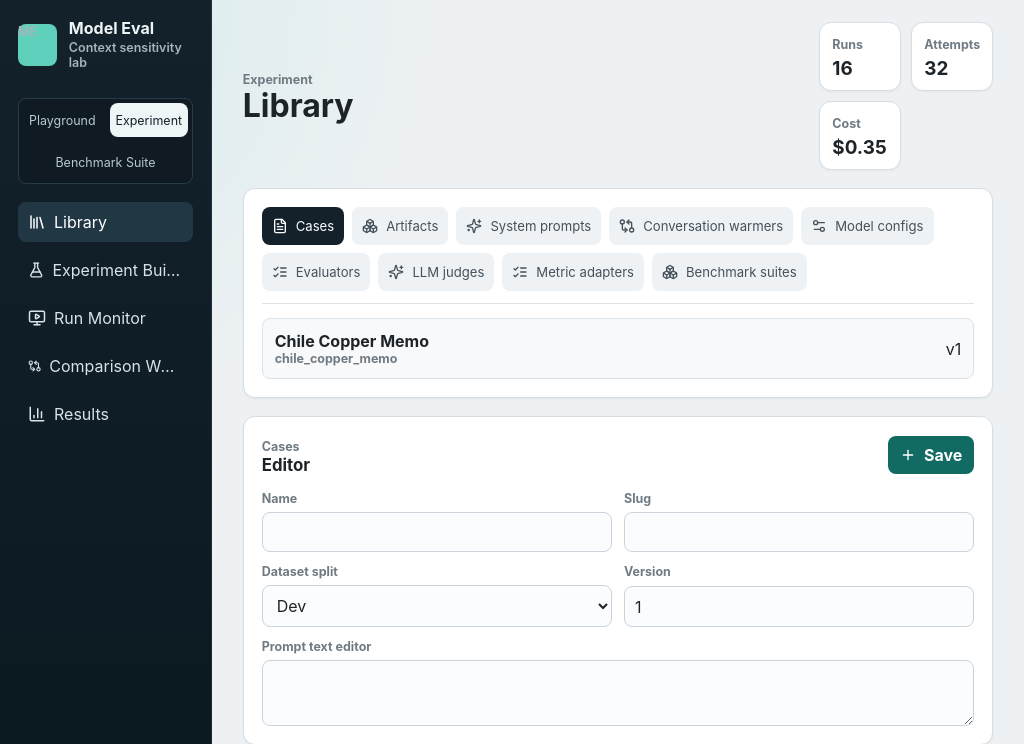
Test: App experiment builder › surfaces manifest-save library conflicts before creating a draft
Click the button "Experiment Builder". click: [106, 270]
box: top-left (18, 250), bottom-right (193, 290)
(page scrolled)
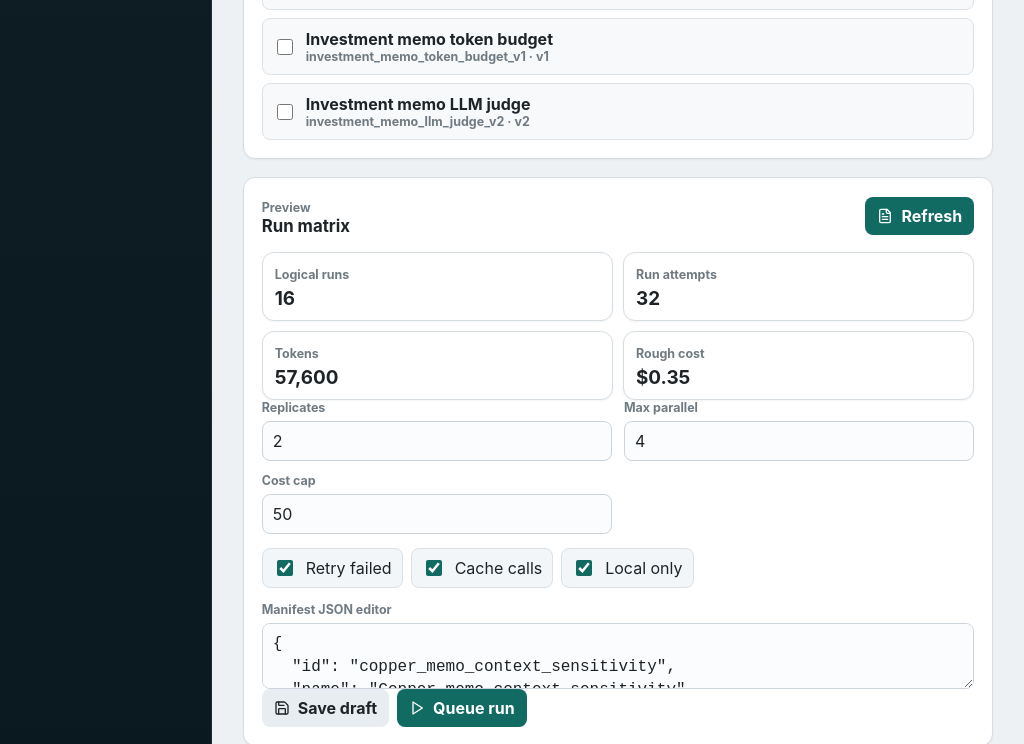
Click the button "Save draft". click: [325, 708]
box: top-left (262, 689), bottom-right (389, 727)
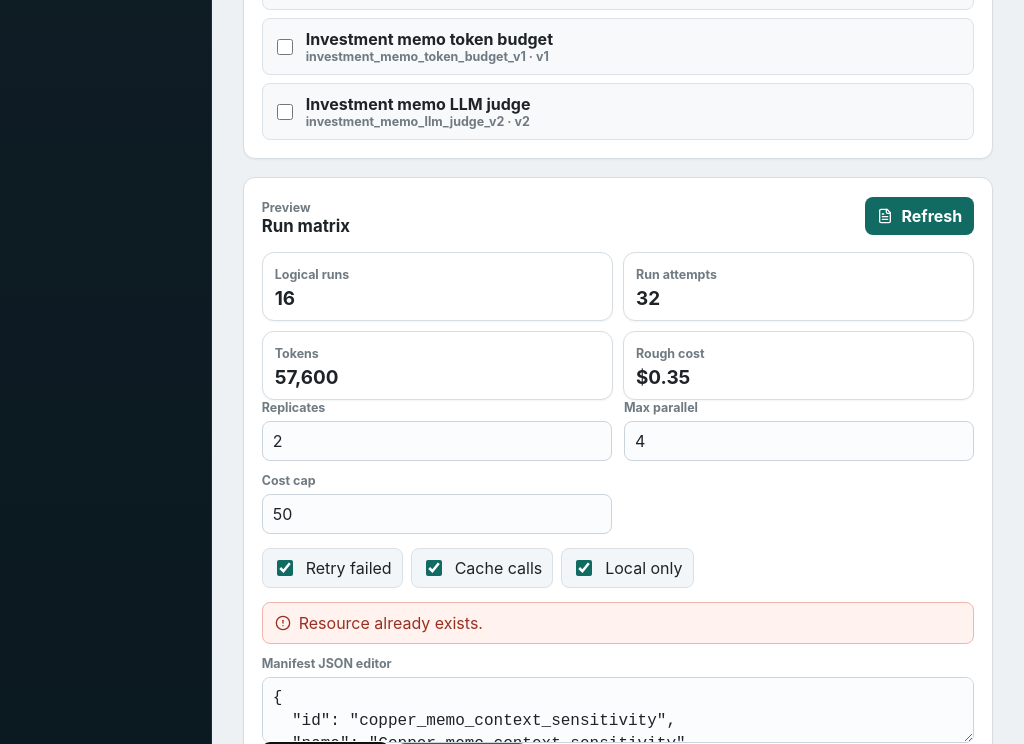
Result: the message reads "Resource already exists." at top-left (299, 613), bottom-right (483, 633)
